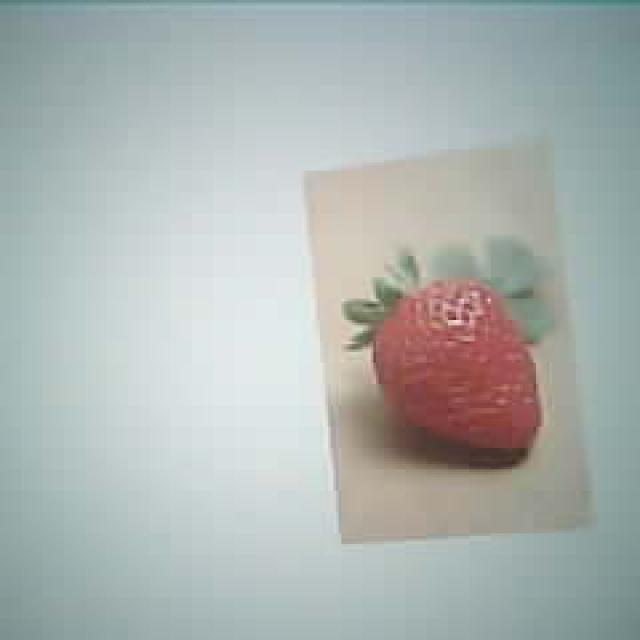ripe: (372, 277, 542, 450)
